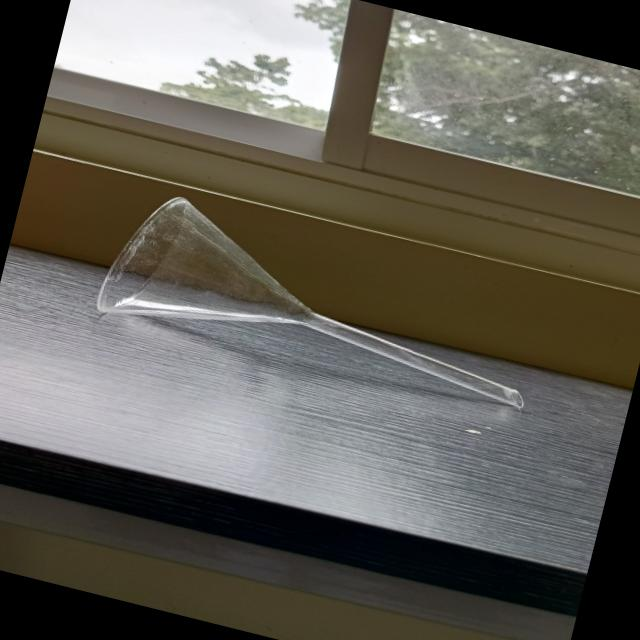funnel: (58, 169, 556, 431)
